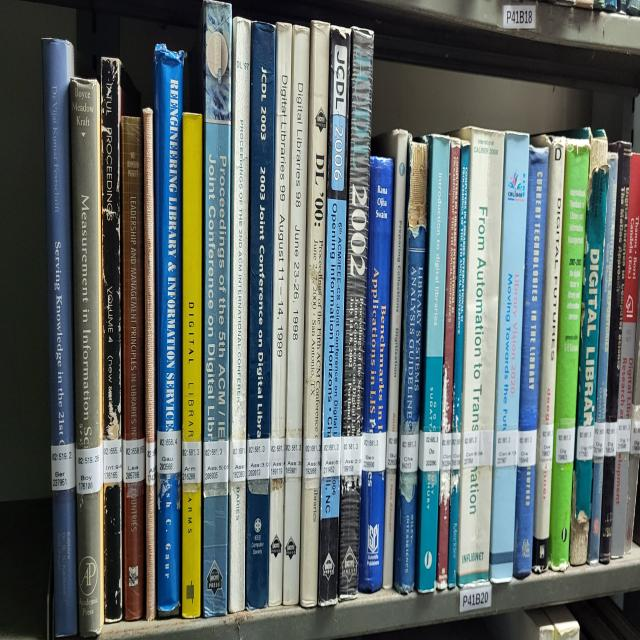Book: (100, 57, 140, 622), (456, 127, 505, 587), (42, 38, 78, 636), (338, 27, 374, 601), (70, 78, 104, 636), (318, 27, 350, 606), (201, 0, 231, 617), (549, 138, 590, 571), (245, 22, 275, 609), (300, 22, 330, 609), (490, 133, 529, 582), (154, 46, 184, 614), (372, 130, 409, 590), (570, 133, 609, 565), (282, 24, 310, 606), (415, 135, 450, 593), (394, 141, 428, 593), (359, 157, 394, 593), (514, 146, 549, 579), (532, 135, 565, 574), (599, 141, 631, 563), (269, 22, 292, 606), (229, 19, 251, 614), (588, 152, 618, 563), (121, 116, 145, 620), (611, 154, 640, 557), (436, 138, 460, 590), (181, 114, 202, 617), (448, 141, 470, 587), (142, 108, 156, 620)
Label: (76, 444, 102, 495), (462, 430, 494, 468), (51, 444, 75, 490), (156, 430, 181, 473), (204, 441, 229, 484), (122, 438, 145, 484), (246, 438, 270, 482), (102, 438, 122, 484), (362, 433, 386, 471), (495, 430, 519, 468), (419, 430, 441, 471), (321, 436, 341, 479), (341, 436, 362, 476), (182, 441, 201, 484), (302, 438, 321, 479), (400, 433, 419, 473), (285, 436, 302, 479), (555, 427, 575, 463), (230, 438, 246, 482), (518, 430, 536, 468), (576, 425, 594, 460), (270, 438, 285, 479), (539, 425, 554, 460), (386, 430, 398, 471), (604, 422, 618, 457), (145, 441, 156, 484), (594, 422, 606, 460), (440, 433, 451, 471), (451, 433, 461, 471)
